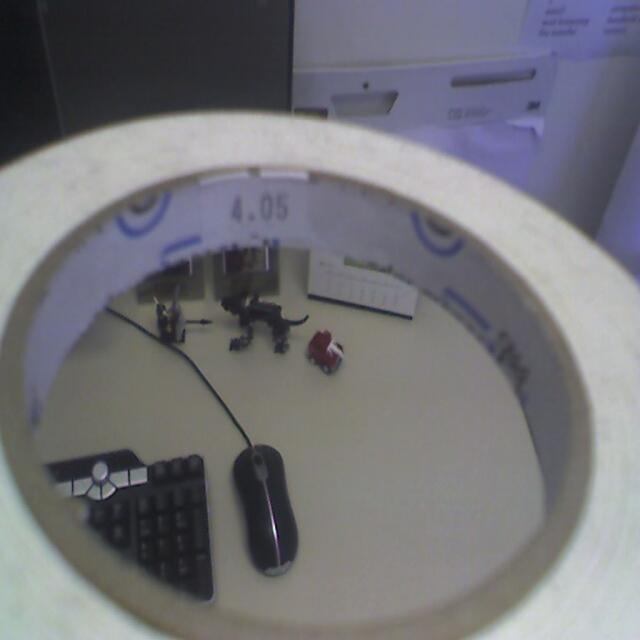Computer-mouse: (230, 442, 301, 578)
